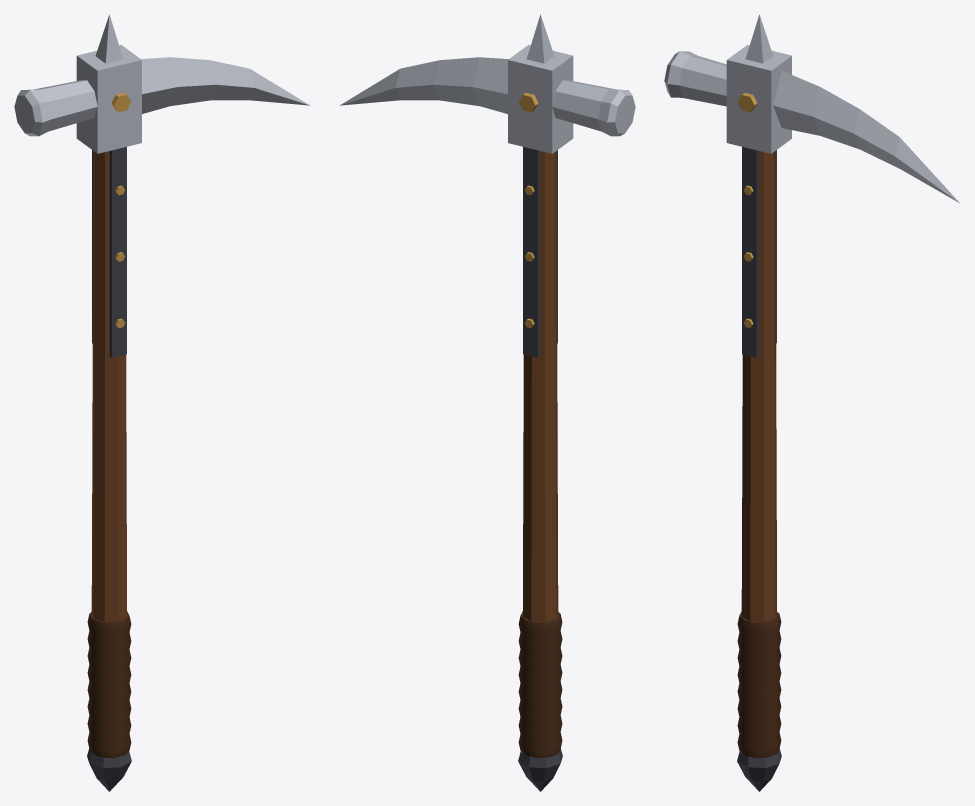
File: war_pick.glb
3 views of the same model, side by side, from view 1: azimuth 30°, elevation 25°; view 2: azimuth 150°, elevation 25°; view 3: azimuth 330°, elevation 25° (orthographic).
Visible parts, largest first — view 1: WarPick_Head, WarPick_Haft, WarPick_Grip, WarPick_Langets, WarPick_Pommel; view 2: WarPick_Head, WarPick_Haft, WarPick_Grip, WarPick_Langets, WarPick_Pommel; view 3: WarPick_Head, WarPick_Haft, WarPick_Grip, WarPick_Langets, WarPick_Pommel.
Part boxes in pixels (left/top/right/bottom): WarPick_Head: left=14, top=14, right=309, bottom=153; WarPick_Haft: left=91, top=151, right=127, bottom=621; WarPick_Grip: left=87, top=611, right=131, bottom=758; WarPick_Langets: left=92, top=147, right=126, bottom=357; WarPick_Pommel: left=87, top=748, right=131, bottom=791; WarPick_Head: left=340, top=14, right=635, bottom=153; WarPick_Haft: left=522, top=151, right=558, bottom=621; WarPick_Grip: left=518, top=611, right=562, bottom=758; WarPick_Langets: left=523, top=147, right=557, bottom=357; WarPick_Pommel: left=518, top=748, right=562, bottom=791; WarPick_Head: left=664, top=14, right=959, bottom=203; WarPick_Haft: left=741, top=151, right=777, bottom=621; WarPick_Grip: left=737, top=611, right=781, bottom=758; WarPick_Langets: left=742, top=147, right=776, bottom=357; WarPick_Pommel: left=737, top=749, right=781, bottom=791.
Size of the model in its own units: 0.27 by 0.702 by 0.044.
